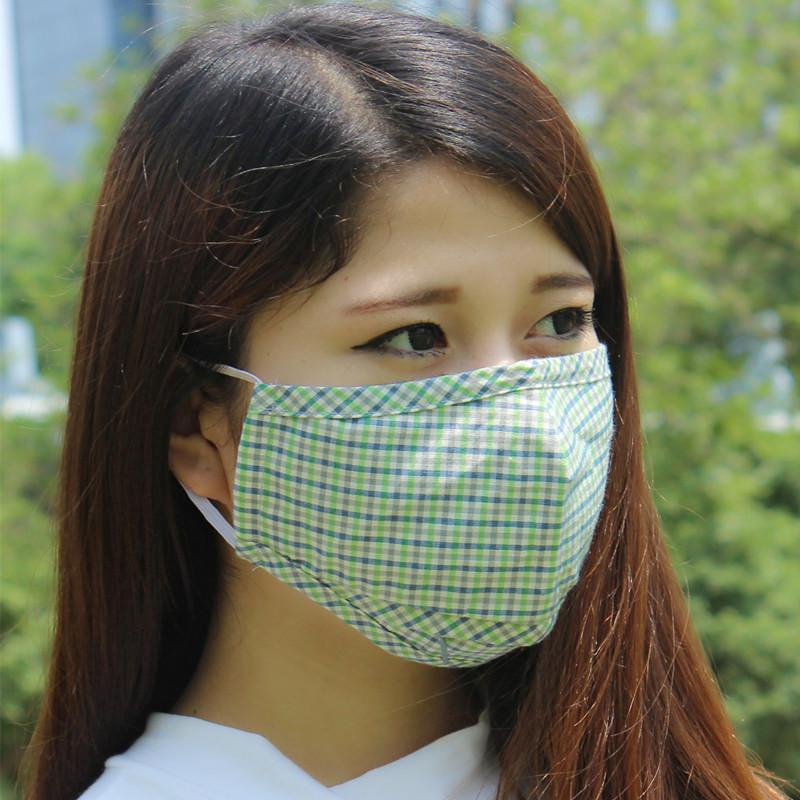OK: (231, 257, 616, 642)
